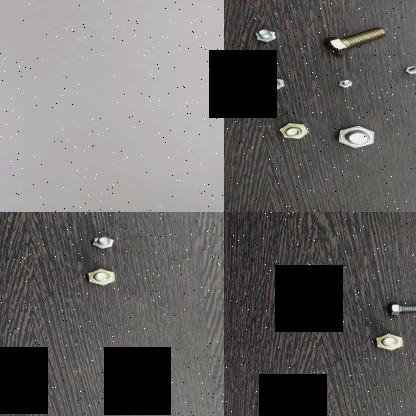Bolts: (319, 22, 391, 58), (335, 124, 383, 150), (279, 117, 313, 143), (372, 330, 406, 352), (86, 266, 120, 286), (86, 233, 122, 250), (246, 25, 280, 42), (387, 297, 416, 315), (262, 73, 288, 93), (396, 57, 416, 75), (334, 76, 358, 88)
